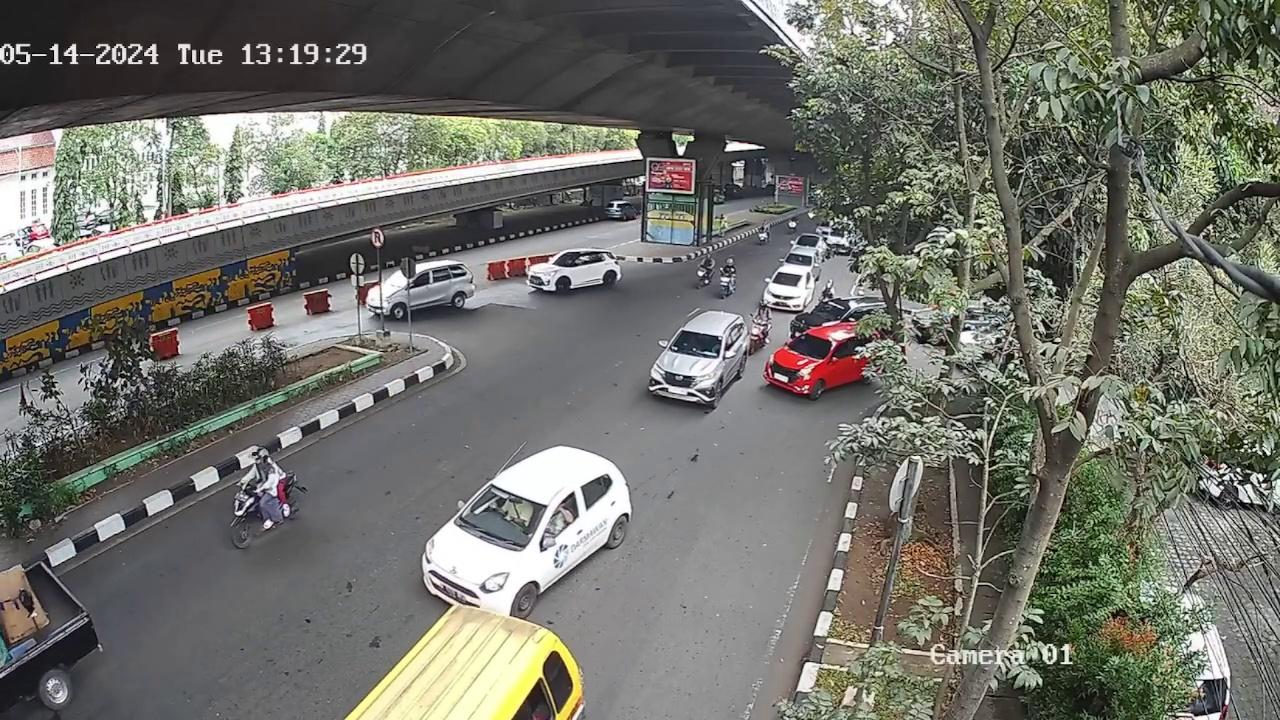pakai: (495, 497, 532, 525)
windshield: (462, 481, 547, 545), (672, 325, 725, 361)
